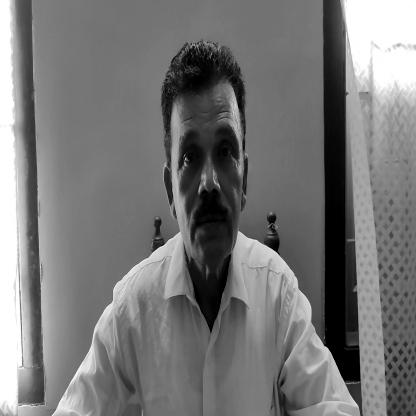Normal: (158, 41, 246, 260)
